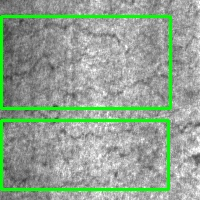crazing: (1, 16, 170, 108), (1, 120, 168, 189)
